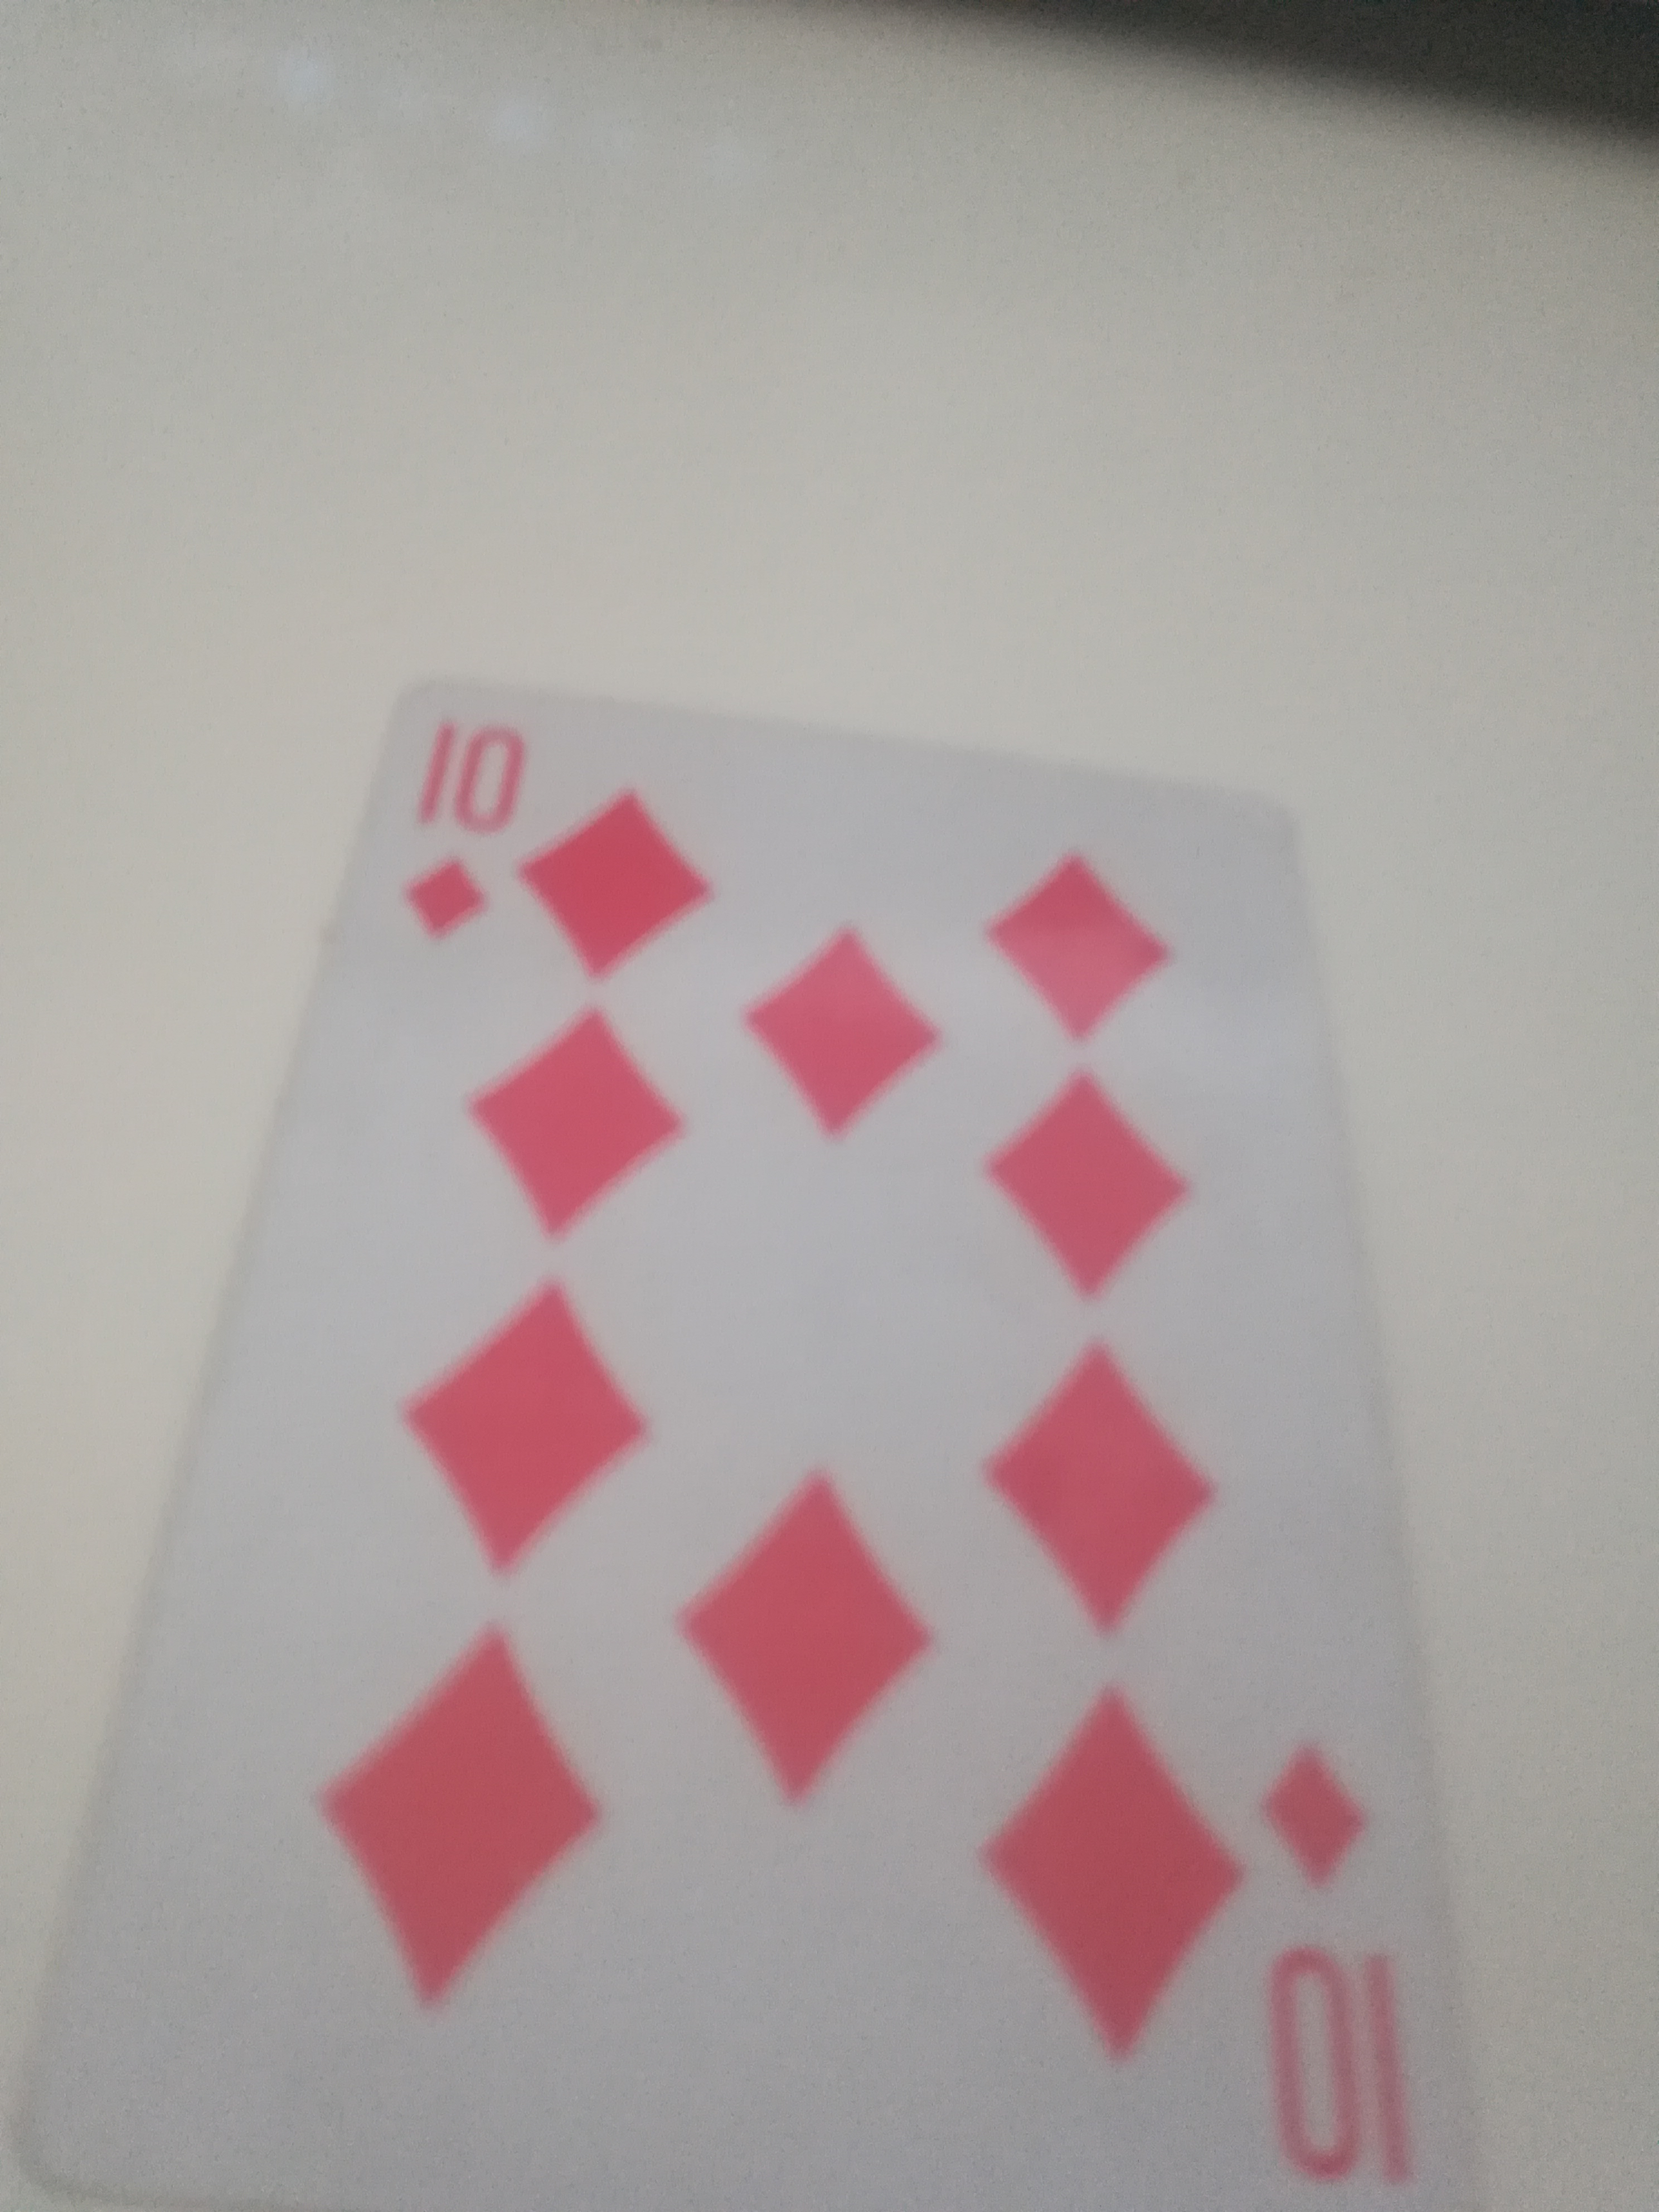10D: (12, 686, 1459, 2212)
